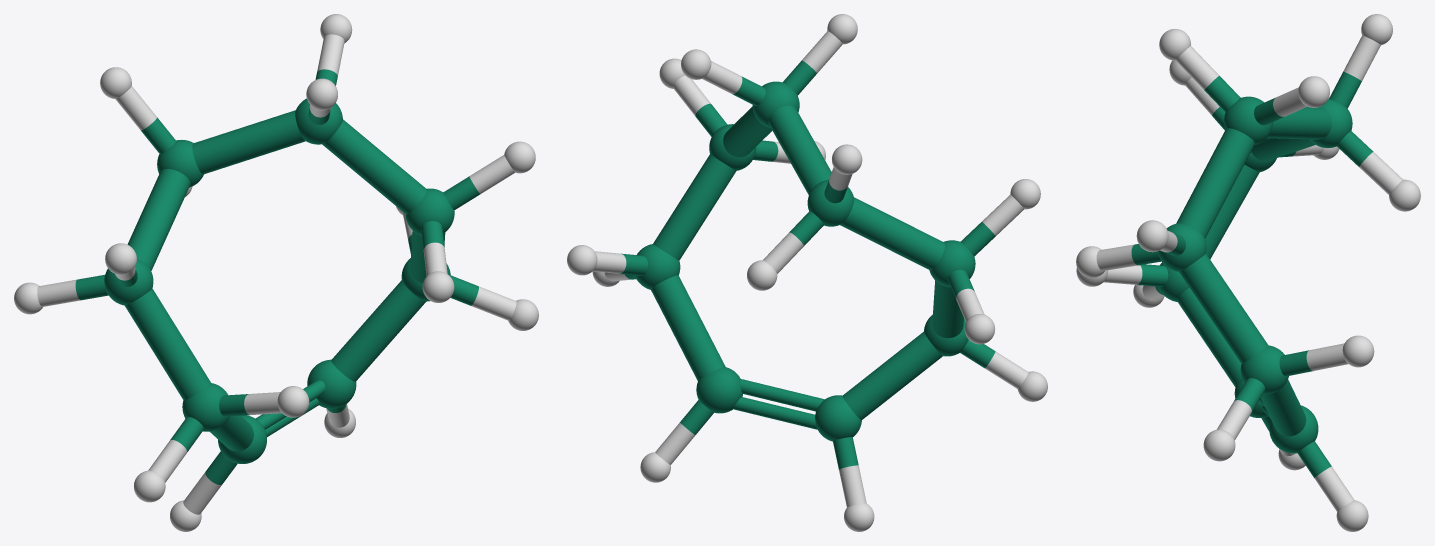
Rendered from CISCYCLOOCTENE.MOL2.glb.
3 views of the same model, side by side, from view 1: azimuth 30°, elevation 25°; view 2: azimuth 150°, elevation 25°; view 3: azimuth 270°, elevation 25° (orthographic). The views are drawn at different scales.
Size of the model in its own units: 5.6 by 5.43 by 3.57.
